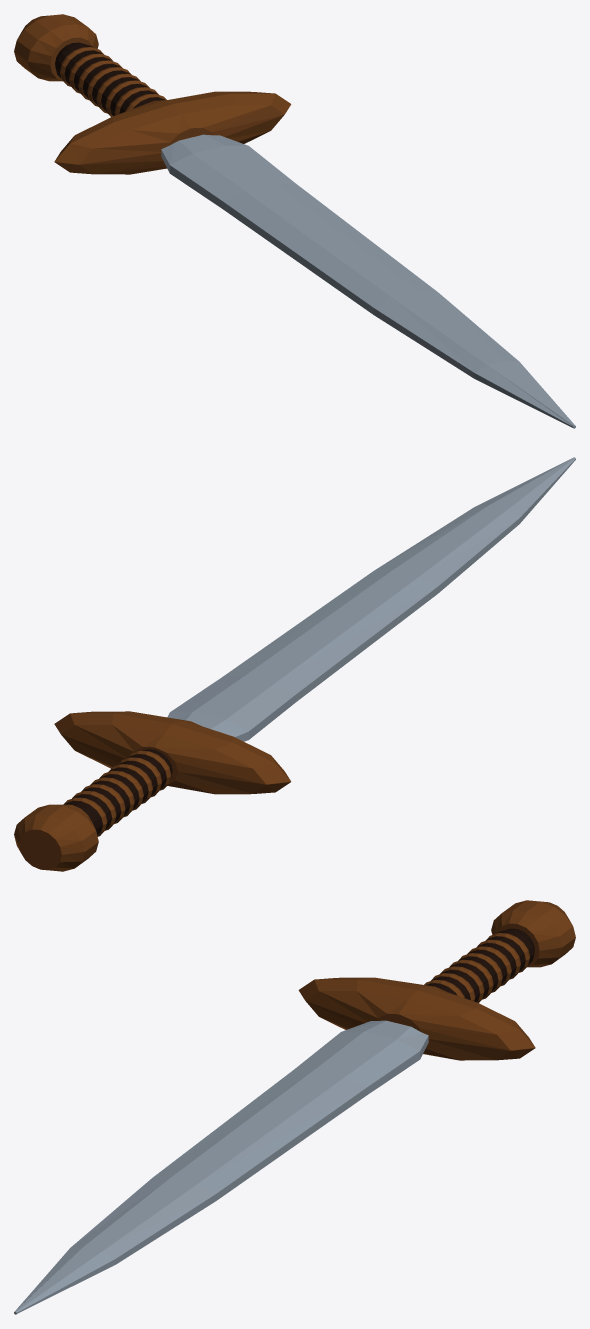
File: SM_MF_FirstlightSword.obj
The picture shows the model from 3 angles, top to bottom: view 1: azimuth 30°, elevation 25°; view 2: azimuth 150°, elevation 25°; view 3: azimuth 330°, elevation 25°; orthographic projection.
Visible parts, largest first — view 1: SM_MF_FirstlightSword; view 2: SM_MF_FirstlightSword; view 3: SM_MF_FirstlightSword.
Boxes of the visible parts, x1,y1,x2,y2 form: SM_MF_FirstlightSword: [14, 14, 575, 428]; SM_MF_FirstlightSword: [14, 457, 575, 871]; SM_MF_FirstlightSword: [14, 900, 575, 1314].
Size of the model in its own units: 30 by 7 by 117.
